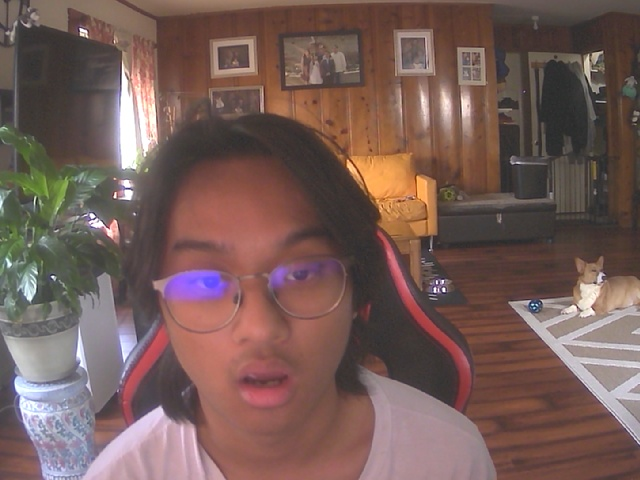fear: (144, 125, 368, 431)
